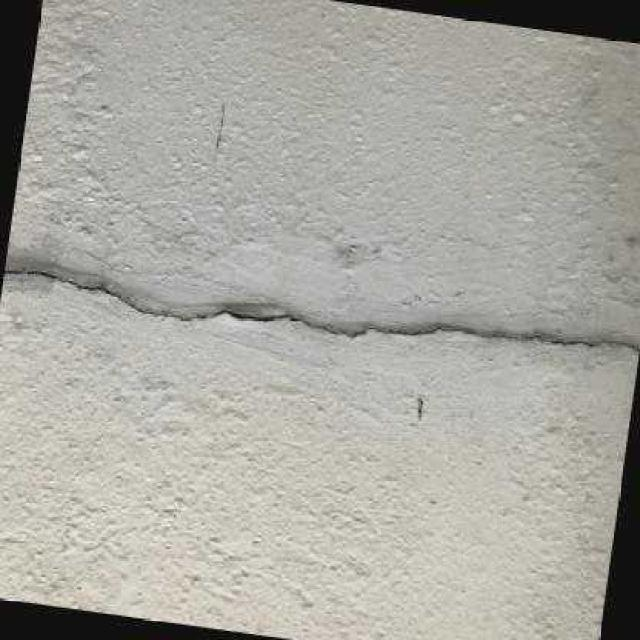D00: (4, 268, 638, 349)
